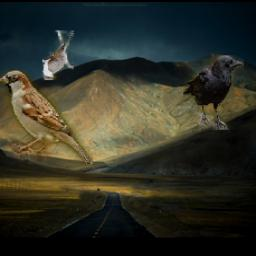Crow: (183, 56, 244, 131)
Cuckoo: (42, 30, 74, 80)
Sparrow: (0, 70, 94, 166)
